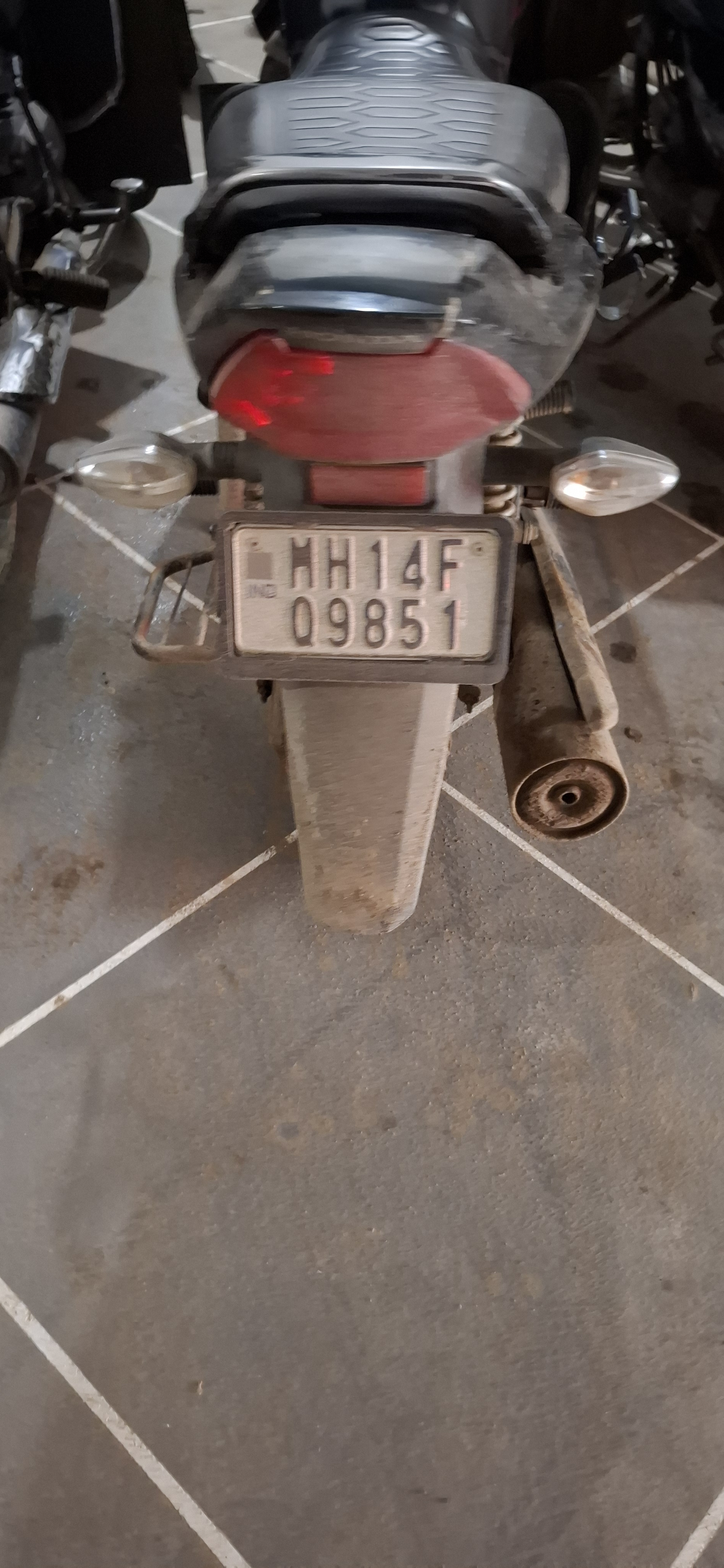license_plate: (119, 0, 609, 937)
